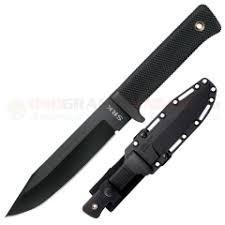Knife: (5, 4, 221, 217)
